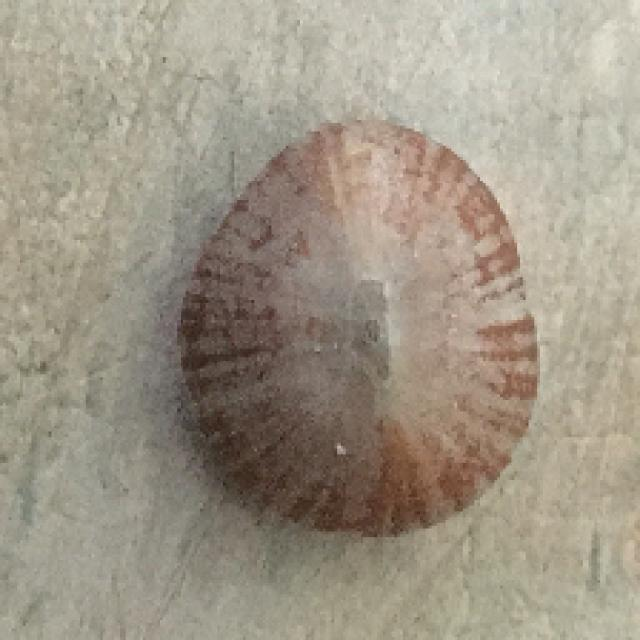qualityHazelnut: (176, 115, 544, 536)
